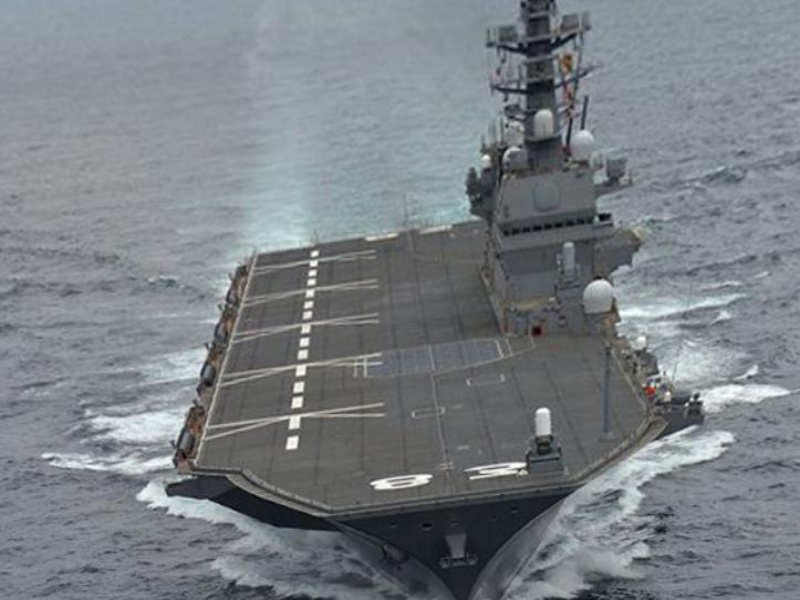carrier: (183, 5, 697, 581)
